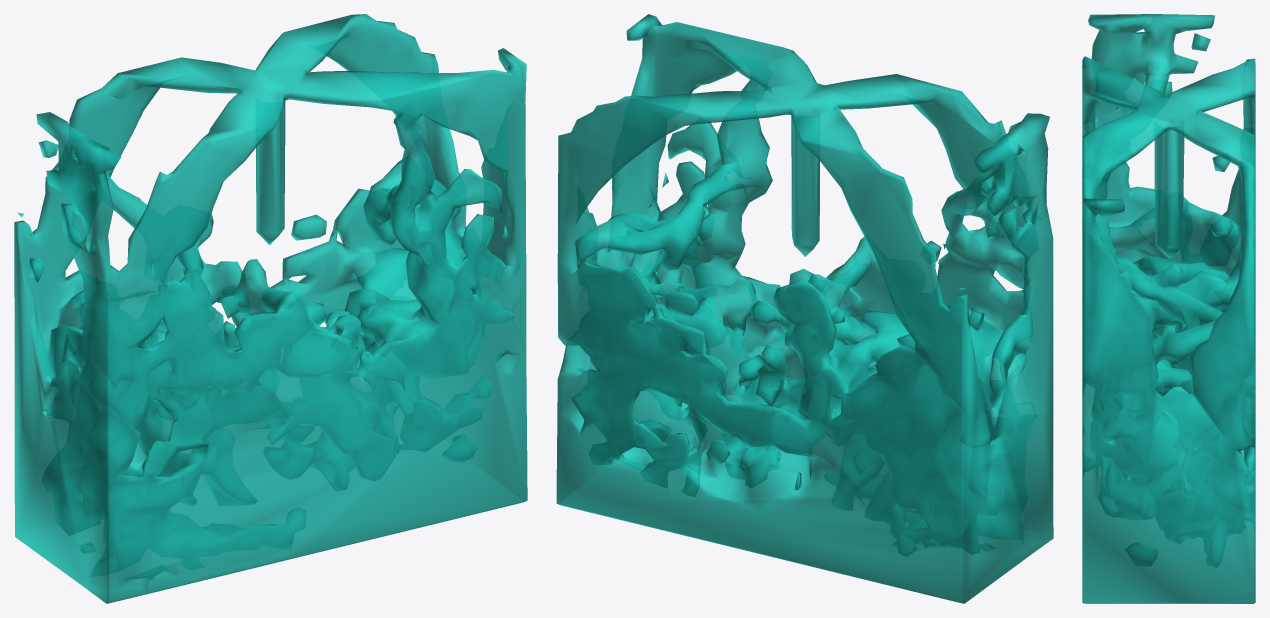
3 renders of one model, left to right at view 1: azimuth 30°, elevation 25°; view 2: azimuth 150°, elevation 25°; view 3: azimuth 270°, elevation 25°, orthographic. The views are drawn at different scales.
Parts seen in each view (by area): view 1: Liquid_Domain; view 2: Liquid_Domain; view 3: Liquid_Domain.
Boxes of the visible parts, <box> form: Liquid_Domain: <box>14,14,527,603</box>; Liquid_Domain: <box>556,14,1053,603</box>; Liquid_Domain: <box>1082,14,1255,603</box>.
Size of the model in its own units: 885 by 885 by 344.
